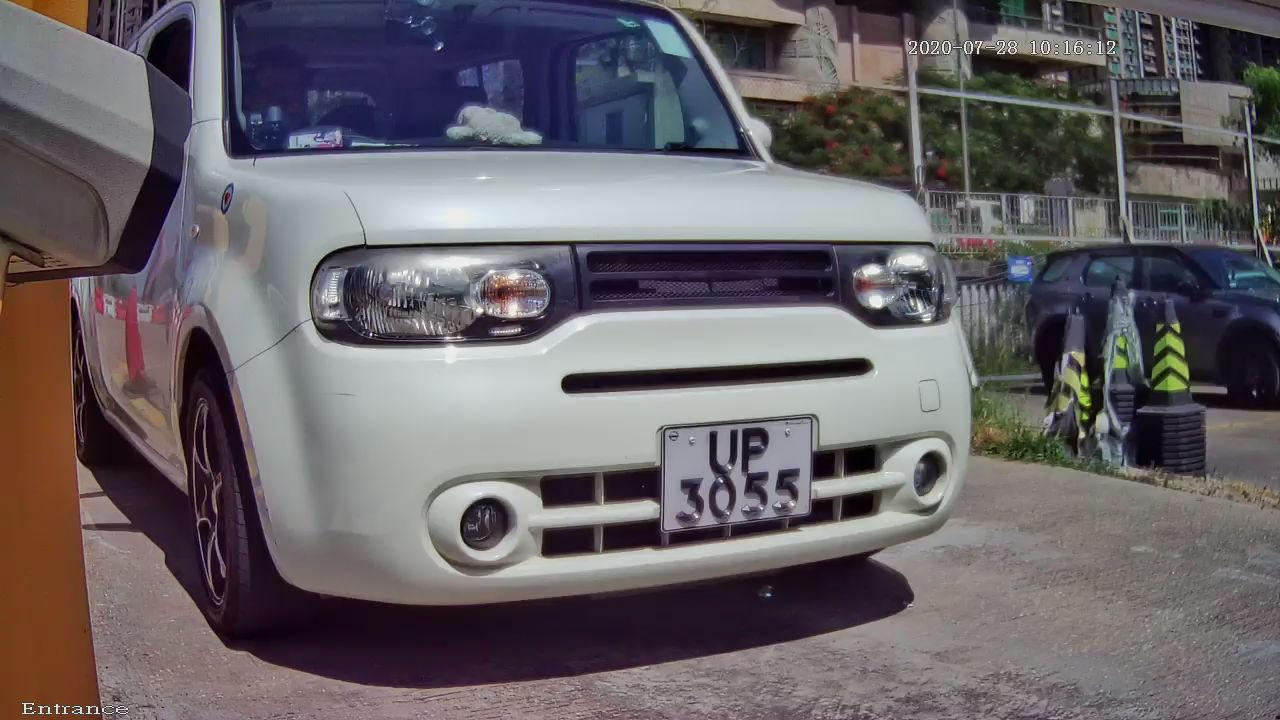privatecar: (58, 20, 1063, 676)
